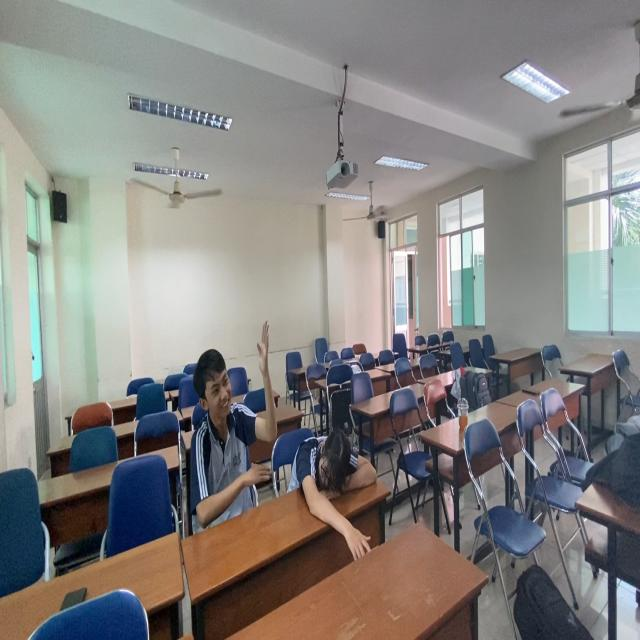raise_hand: (184, 317, 280, 537)
sleep: (294, 422, 382, 555)
